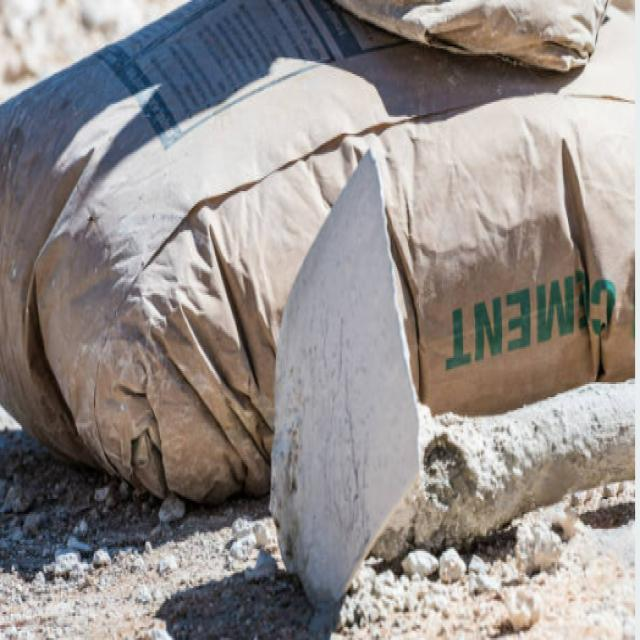KantongSemen: (1, 2, 634, 504)
